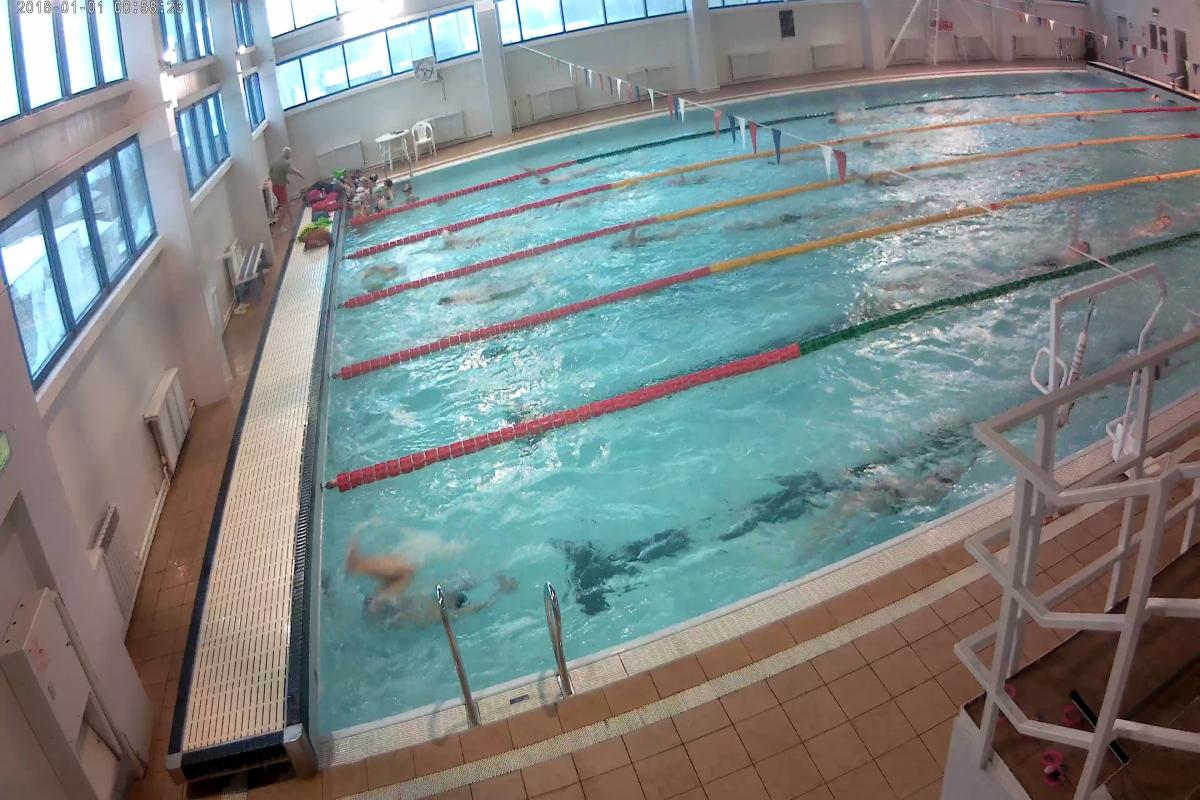swimmer: (347, 561, 509, 627), (834, 446, 962, 518), (1017, 225, 1082, 273), (1129, 195, 1188, 242), (436, 282, 532, 306), (606, 226, 690, 251), (728, 208, 816, 231)
